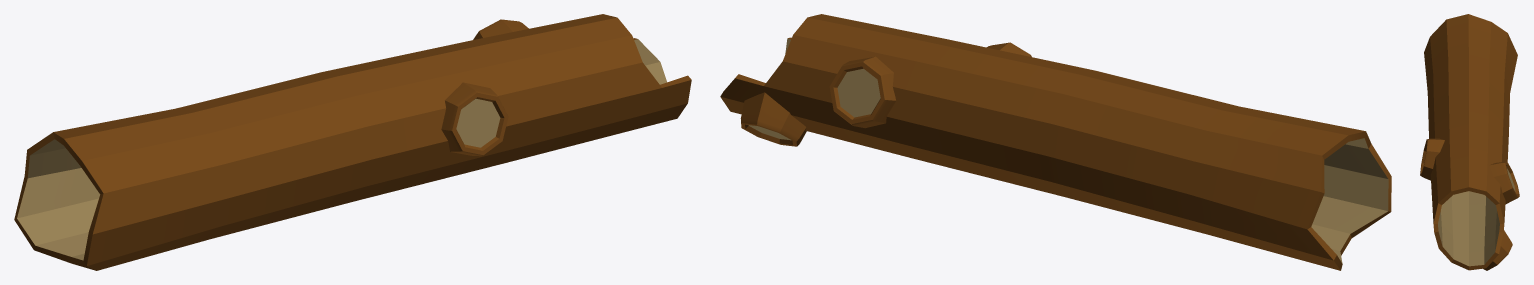
Rendered from envTreeTunnel.fbx.
The picture shows the model from 3 angles, left to right: view 1: azimuth 30°, elevation 25°; view 2: azimuth 150°, elevation 25°; view 3: azimuth 270°, elevation 25°; orthographic projection. The views are drawn at different scales.
Visible parts, largest first — view 1: envTreeTunnel; view 2: envTreeTunnel; view 3: envTreeTunnel.
Part boxes in pixels (x1=…): envTreeTunnel: x1=14, y1=14, x2=691, y2=270; envTreeTunnel: x1=720, y1=14, x2=1391, y2=270; envTreeTunnel: x1=1420, y1=14, x2=1519, y2=270.
Size of the model in its own units: 51.24 by 10.79 by 11.44.
